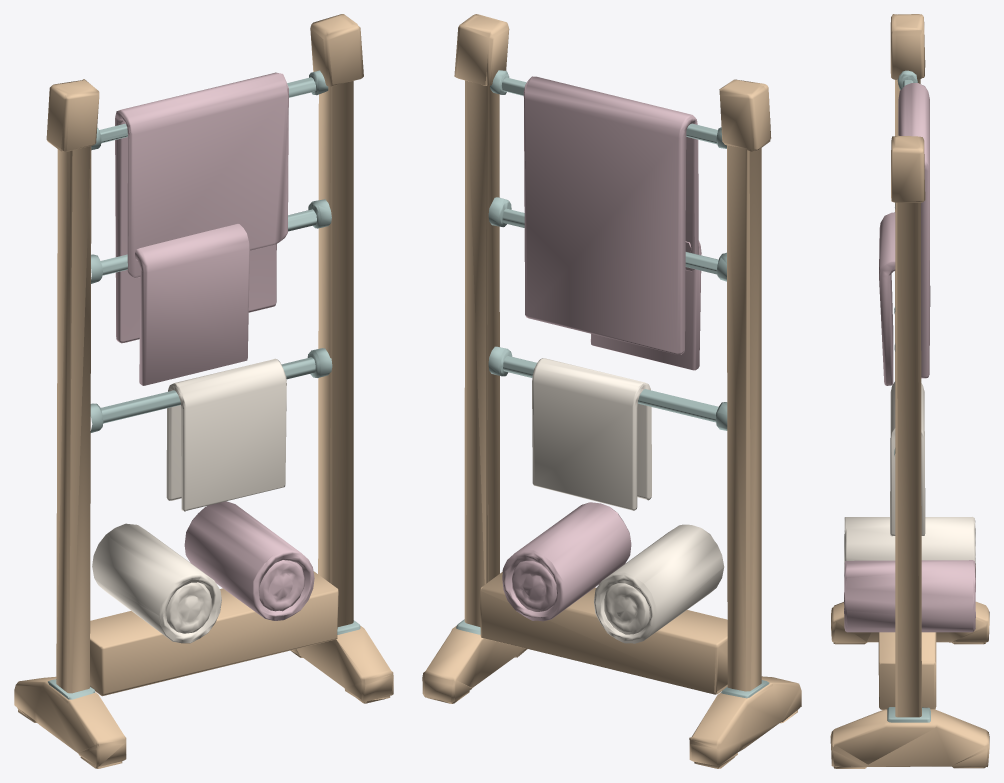
File: bath_towel_rack.glb
3 views of the same model, side by side, from view 1: azimuth 30°, elevation 25°; view 2: azimuth 150°, elevation 25°; view 3: azimuth 270°, elevation 25° (orthographic). The views are drawn at different scales.
Bounding box in the file's own units: 1.1 × 2.25 × 0.5244.
